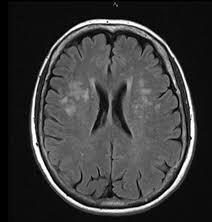Normal_Brain: (3, 2, 212, 222)
